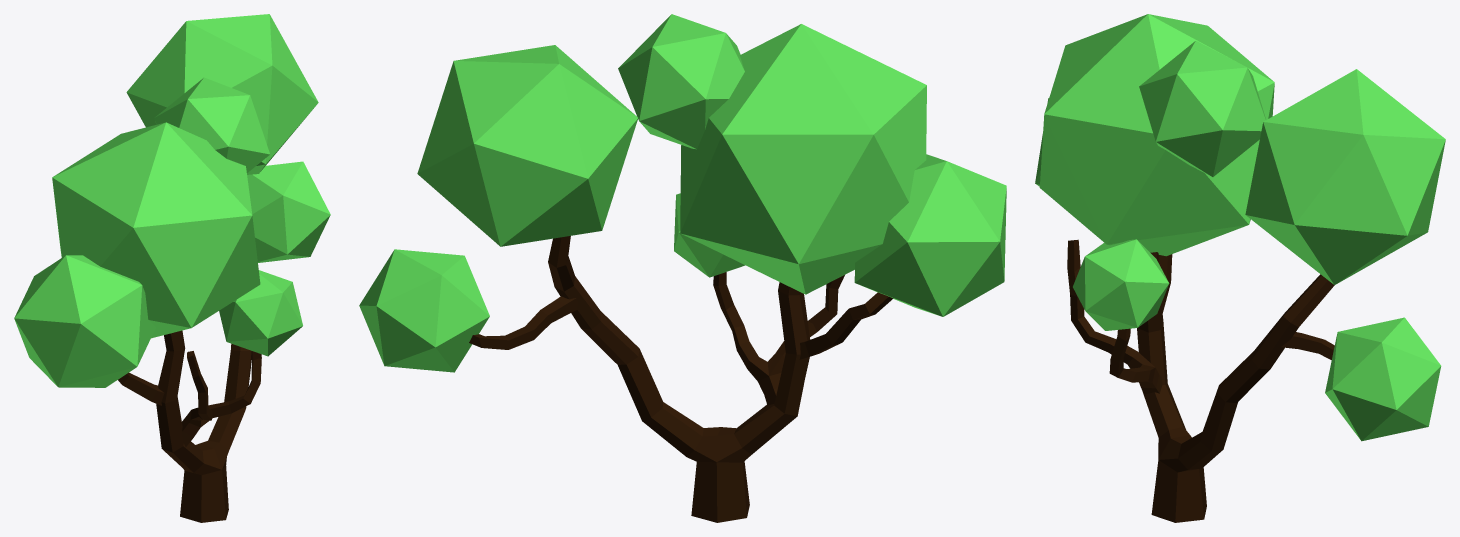
3 renders of one model, left to right at view 1: azimuth 30°, elevation 25°; view 2: azimuth 150°, elevation 25°; view 3: azimuth 270°, elevation 25°, orthographic. The views are drawn at different scales.
Parts seen in each view (by area): view 1: Tree_lp_11; view 2: Tree_lp_11; view 3: Tree_lp_11.
Boxes of the visible parts, x1,y1,x2,y2 form: Tree_lp_11: (14, 14, 330, 522); Tree_lp_11: (359, 14, 1006, 522); Tree_lp_11: (1035, 14, 1445, 522).
Size of the model in its own units: 1.95 by 1.85 by 1.45.
